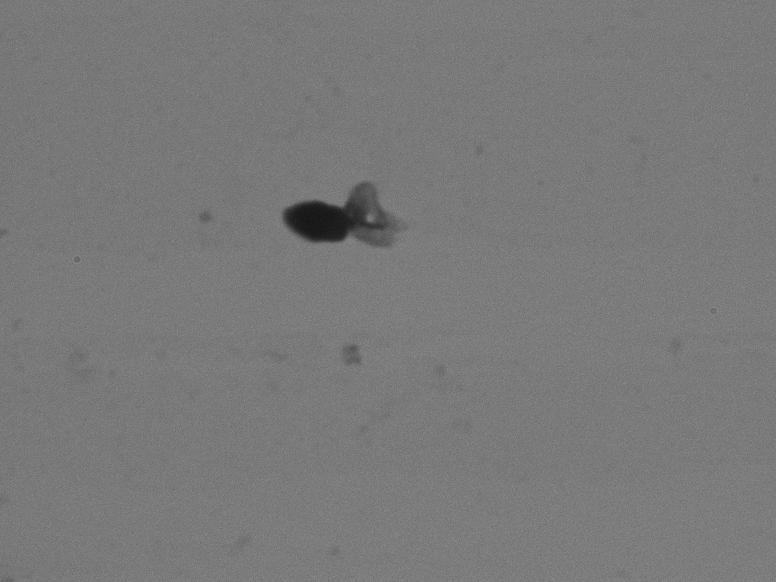Abnormal: (229, 136, 459, 305)
